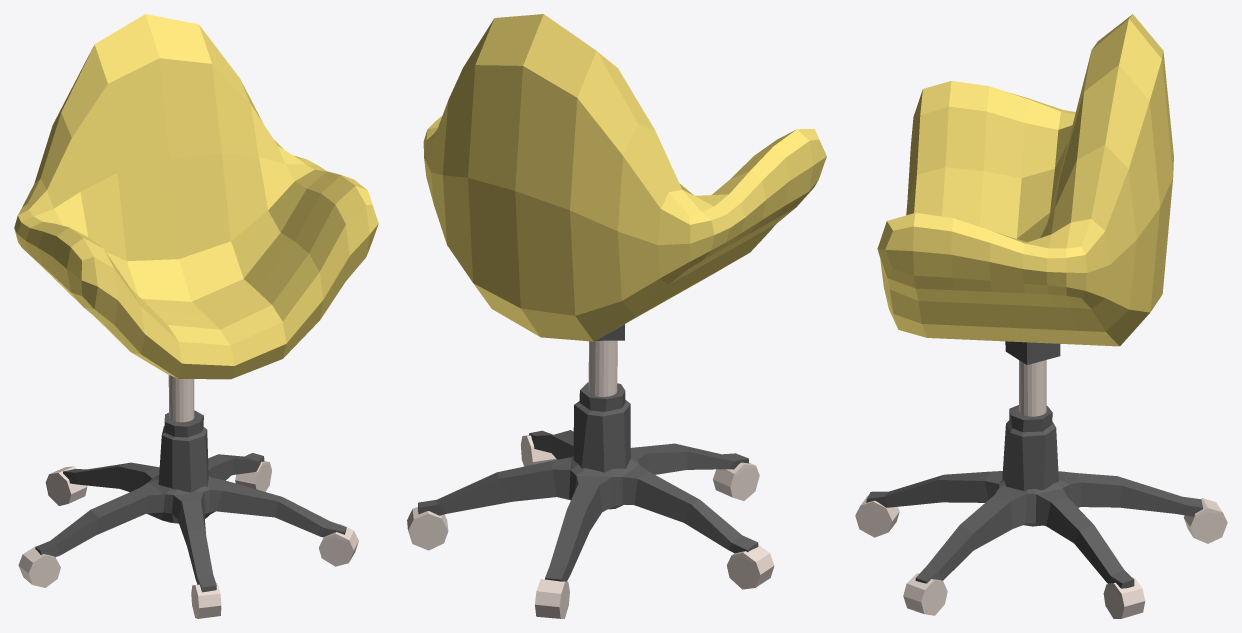
File: Chair_14.fbx
3 renders of one model, left to right at view 1: azimuth 30°, elevation 25°; view 2: azimuth 150°, elevation 25°; view 3: azimuth 270°, elevation 25°, orthographic. The views are drawn at different scales.
Visible parts, largest first — view 1: Chair_14; view 2: Chair_14; view 3: Chair_14.
Boxes of the visible parts, left/top/right/bottom form: Chair_14: left=14, top=14, right=378, bottom=618; Chair_14: left=407, top=14, right=826, bottom=618; Chair_14: left=855, top=14, right=1227, bottom=618.
Size of the model in its own units: 78.87 by 78.52 by 127.
